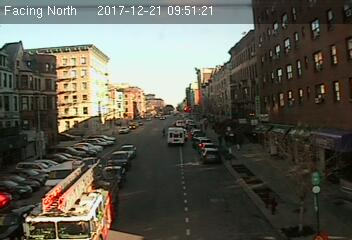car: (108, 151, 130, 169), (202, 148, 219, 164), (119, 144, 137, 157)
truck: (24, 165, 118, 240), (167, 125, 183, 145)
